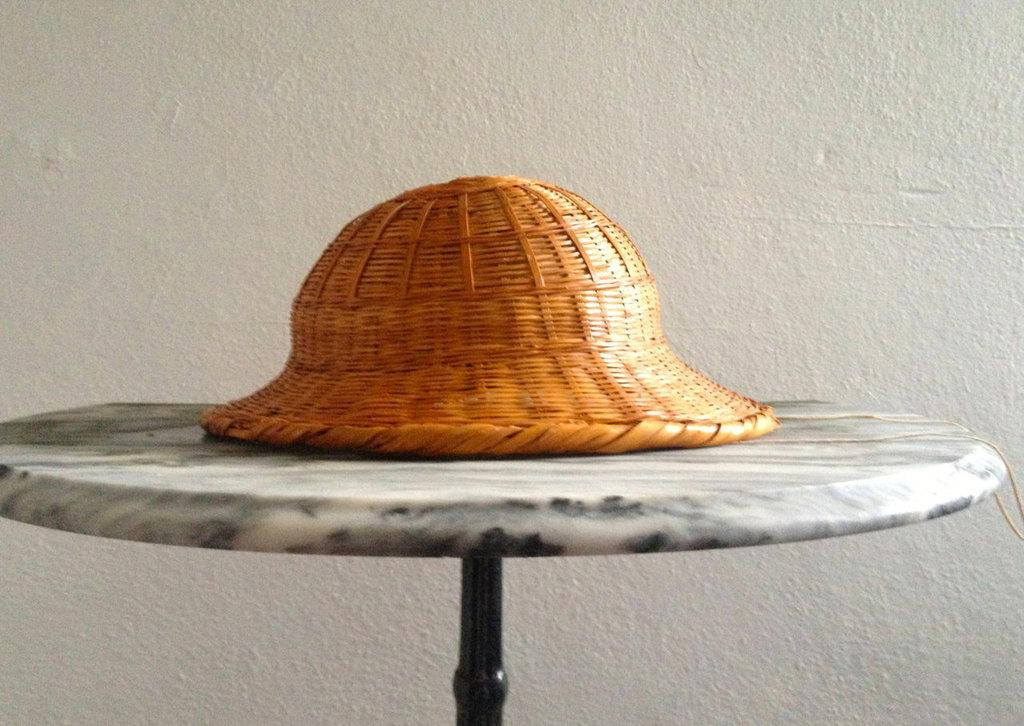Hat: (198, 169, 780, 462)
